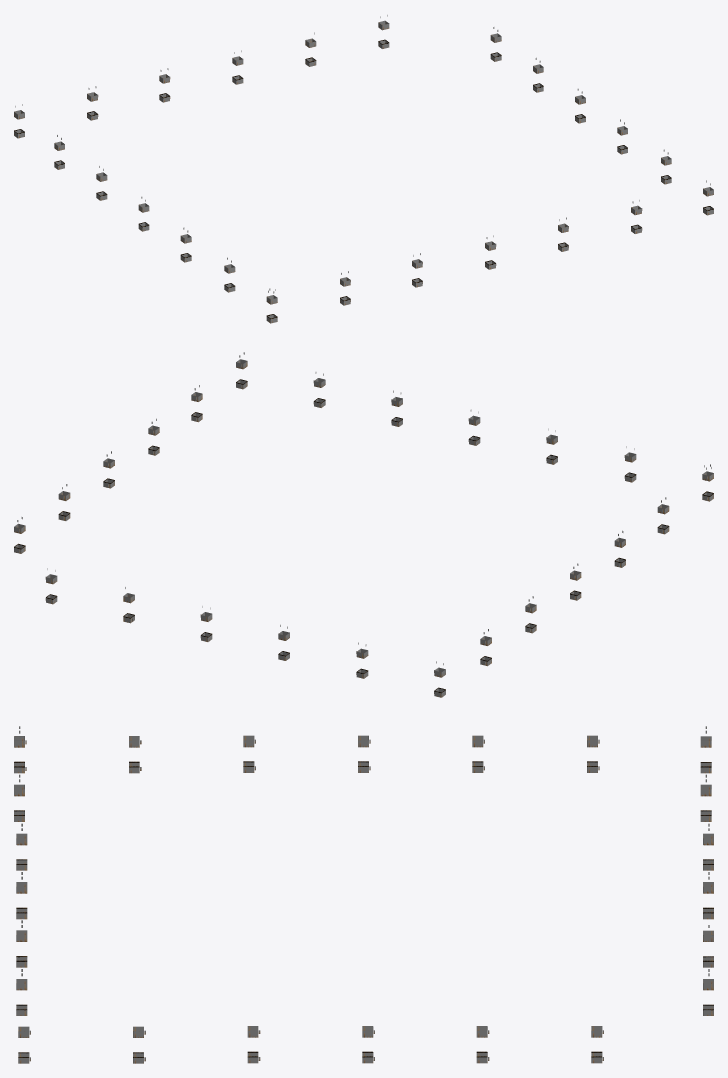
The model's file is material3.006_lev3.glb.
3 views of the same model, one above another, from view 1: azimuth 30°, elevation 25°; view 2: azimuth 150°, elevation 25°; view 3: azimuth 270°, elevation 25° (orthographic). The views are drawn at different scales.
Parts seen in each view (by area): view 1: material3.006_lev3; view 2: material3.006_lev3; view 3: material3.006_lev3.
Part boxes in pixels (<box>): material3.006_lev3: <box>14,15,713,323</box>; material3.006_lev3: <box>14,352,713,697</box>; material3.006_lev3: <box>14,726,713,1063</box>.
Bounding box in the file's own units: 3.52 × 0.2396 × 3.52.
1 material, 1 textured.
